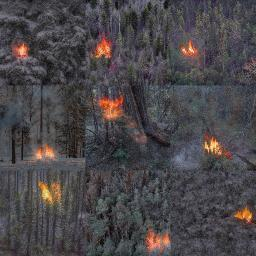Small fire: (201, 132, 234, 160), (98, 97, 128, 121), (143, 230, 172, 252), (37, 181, 62, 203), (94, 37, 115, 61), (232, 205, 254, 224), (32, 143, 58, 158), (180, 41, 200, 57), (15, 43, 34, 59)
